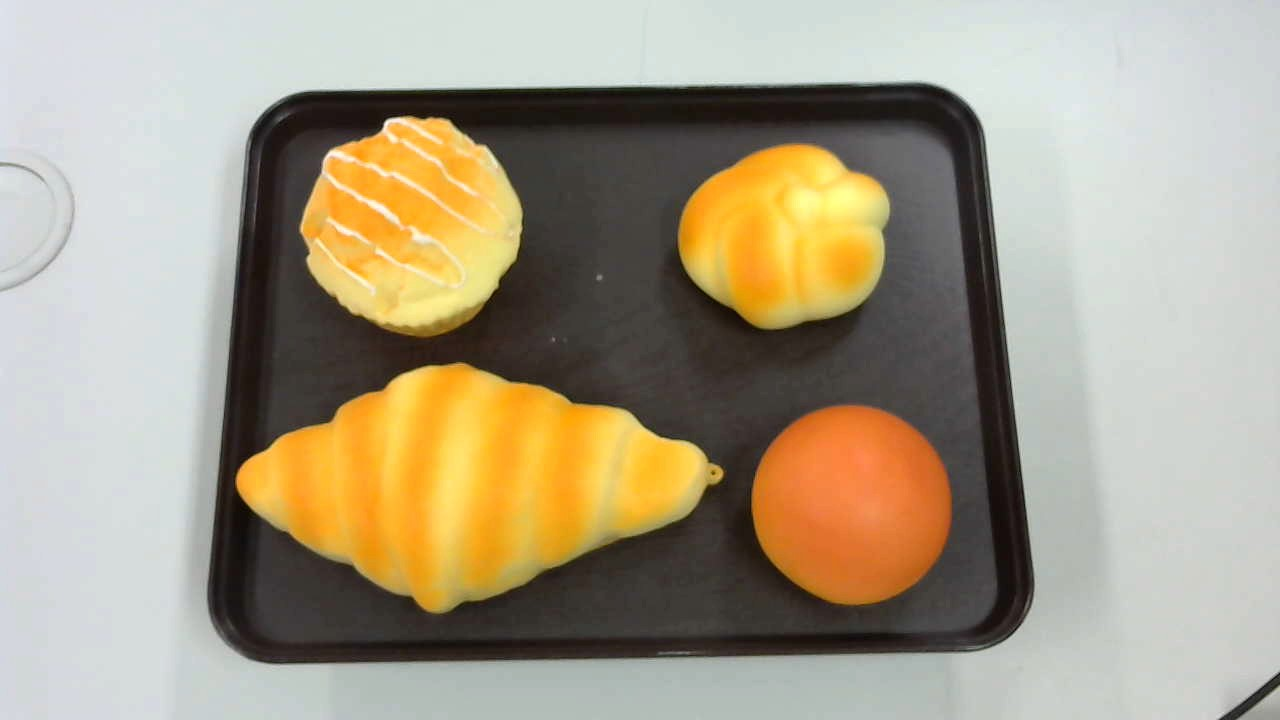bun: (751, 404, 954, 606)
croissant: (234, 361, 724, 612)
cupcake: (298, 113, 524, 339)
twist bread: (677, 144, 890, 331)
